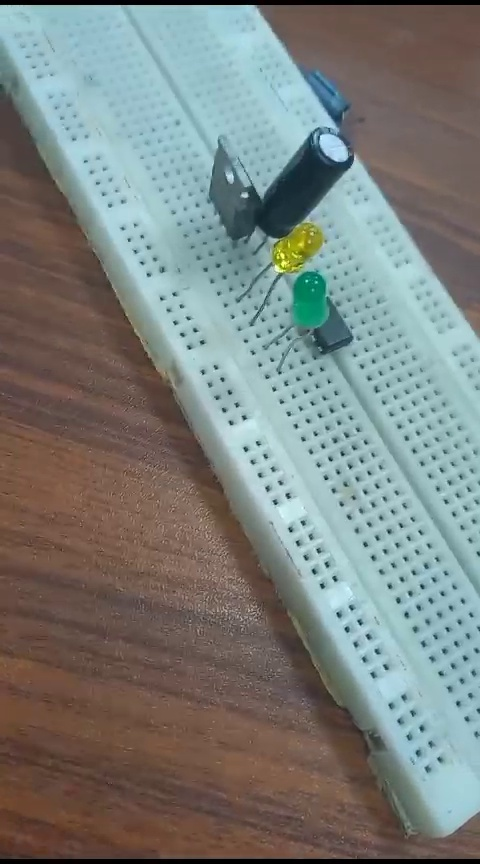LED: (264, 217, 323, 285), (287, 273, 332, 360)
capacitor: (284, 117, 352, 228), (298, 64, 359, 124)
voltage regulator: (192, 133, 262, 253)
